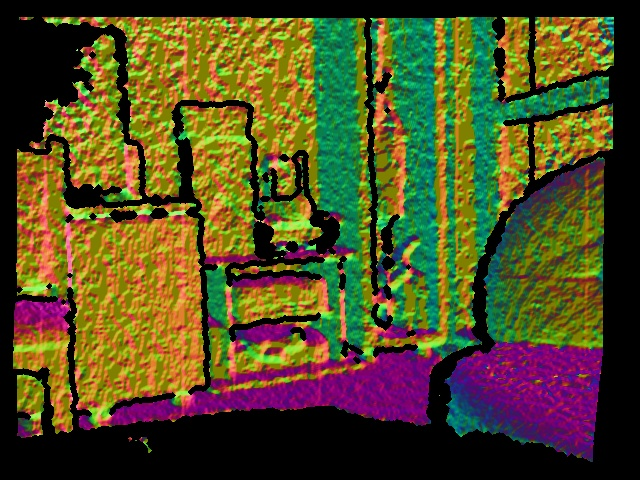station: (259, 153, 313, 221)
